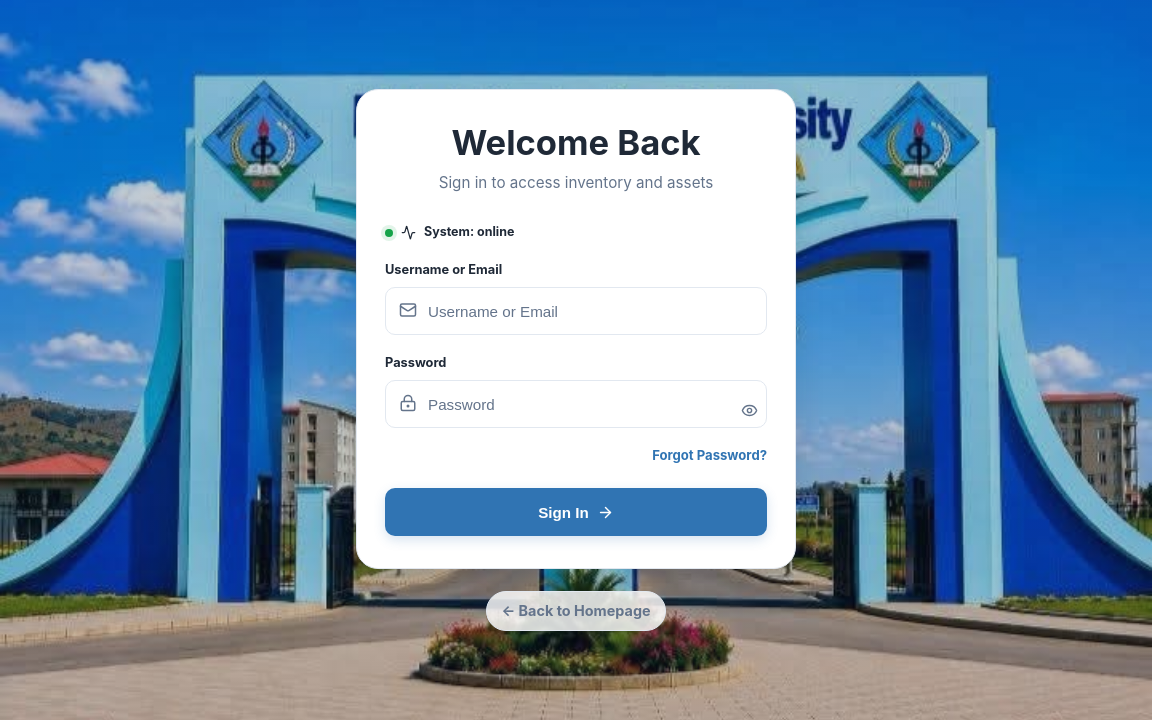
it: Login error feedback › shows the authentication error returned by the backend
The width and height of the screenshot is (1152, 720).
Expected: the text "System: online" is shown, [385, 223, 514, 242]
Step 1. Type "admin" into the field labelled "Username or Email" → coordinates (576, 311), box [385, 287, 767, 335]
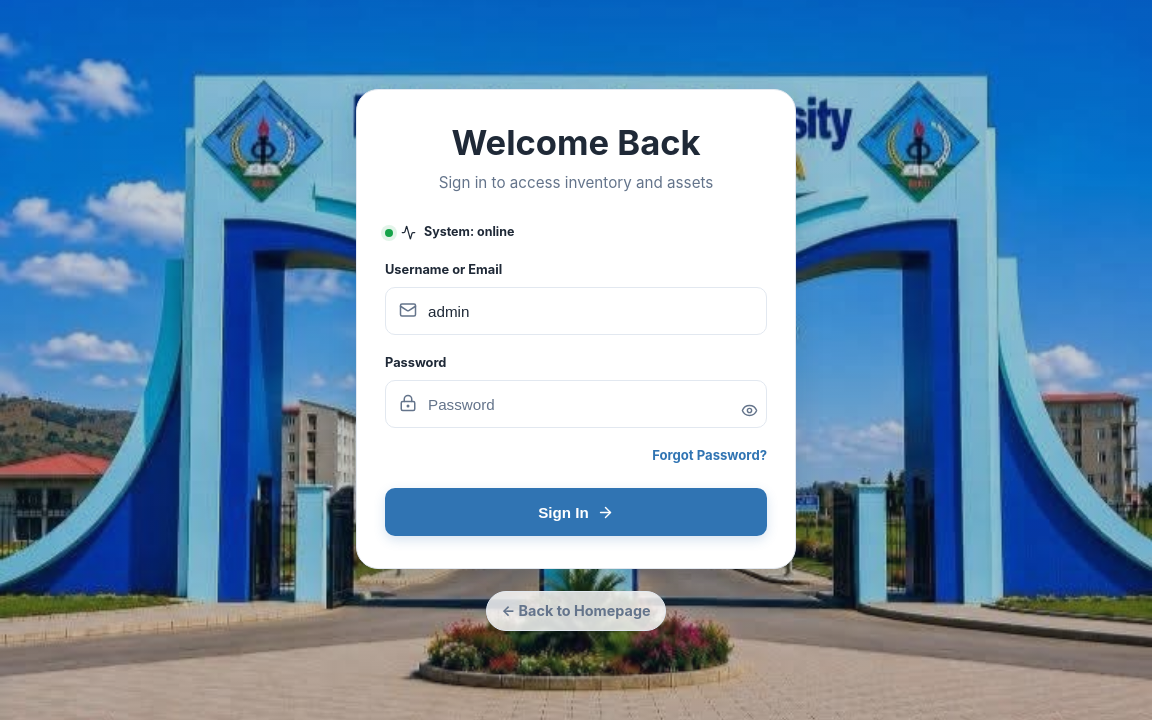
Step 2. Type "not-shown" into the password field labelled "Password" → coordinates (576, 404), box [385, 380, 767, 428]
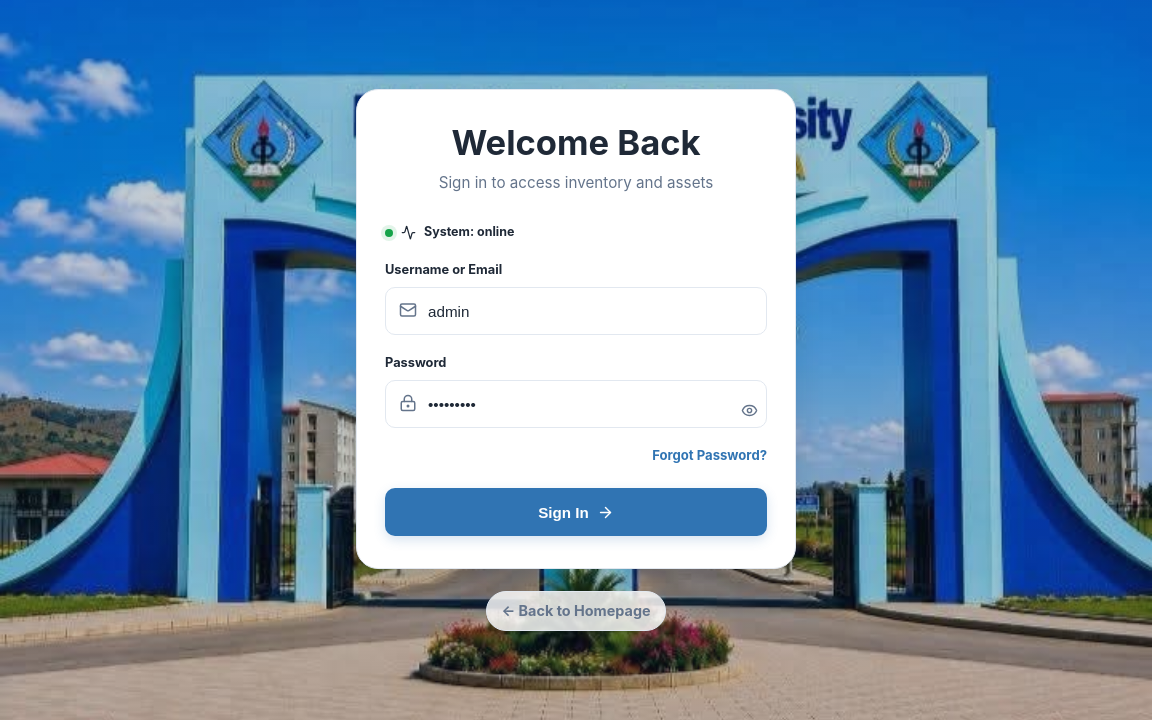
Step 3. Click the button "Sign In" → coordinates (576, 512), box [385, 488, 767, 536]
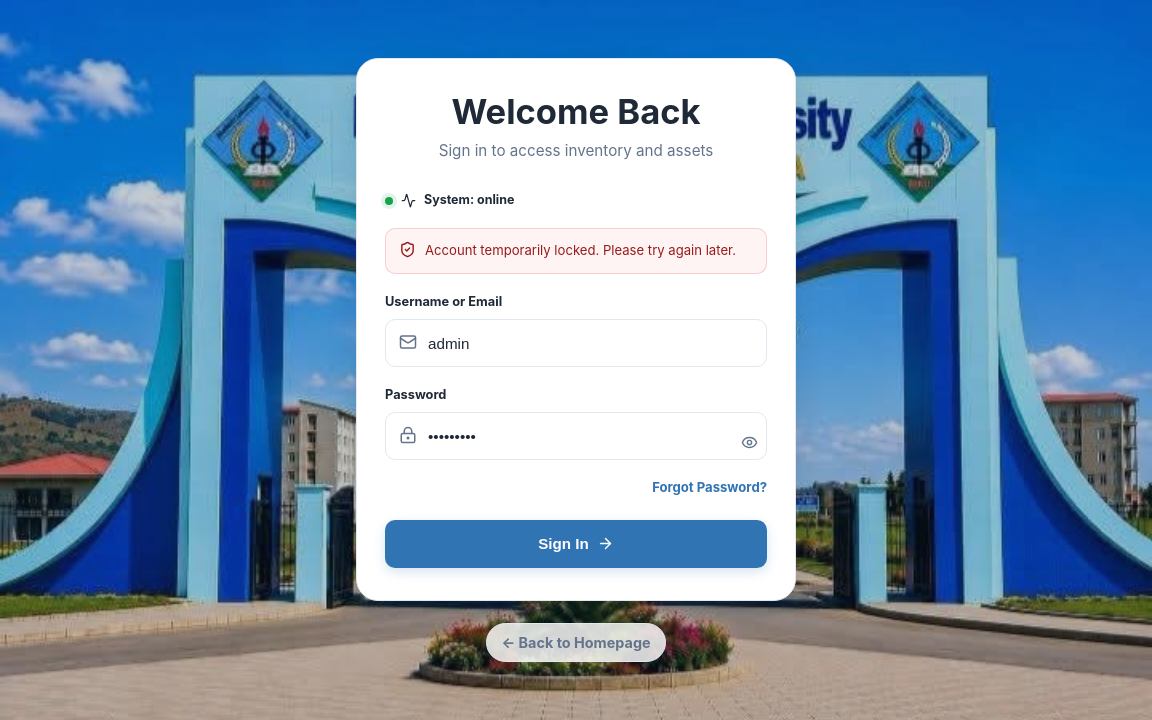
Expected: the message reads "Account temporarily locked. Please try again later.", [425, 242, 736, 258]
